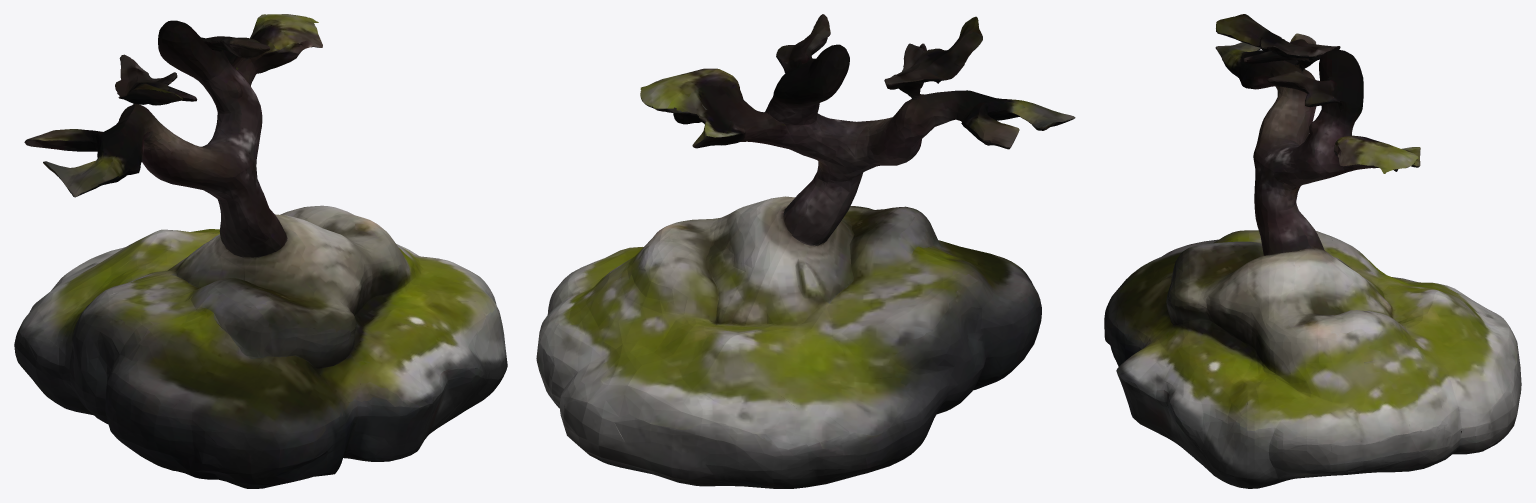
The model's file is prop_amatsu_sakura.glb.
The picture shows the model from 3 angles, left to right: view 1: azimuth 30°, elevation 25°; view 2: azimuth 150°, elevation 25°; view 3: azimuth 270°, elevation 25°; orthographic projection. The views are drawn at different scales.
Parts seen in each view (by area): view 1: geometry_0; view 2: geometry_0; view 3: geometry_0.
Part boxes in pixels (<box>): geometry_0: <box>14,14,507,488</box>; geometry_0: <box>536,14,1075,488</box>; geometry_0: <box>1104,14,1521,488</box>.
Size of the model in its own units: 0.9957 by 0.8047 by 0.9036.
1 material, 1 textured.
